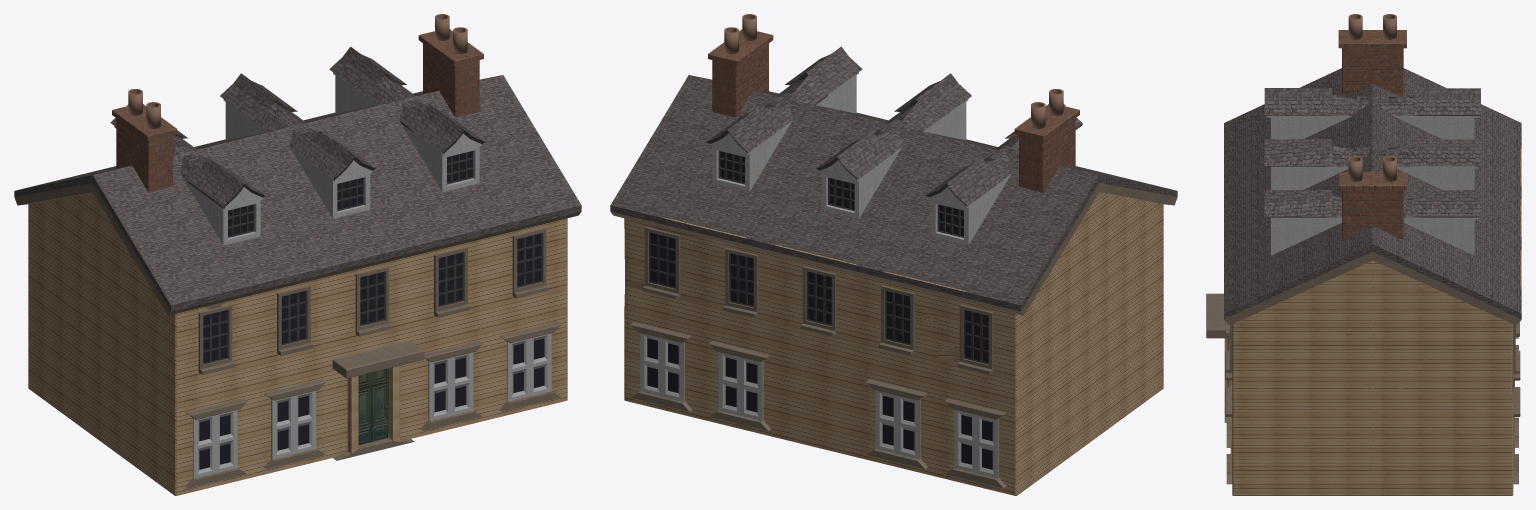
File: town_building_1.glb
The picture shows the model from 3 angles, left to right: view 1: azimuth 30°, elevation 25°; view 2: azimuth 150°, elevation 25°; view 3: azimuth 270°, elevation 25°; orthographic projection. The views are drawn at different scales.
Parts seen in each view (by area): view 1: Town Building 1_0; view 2: Town Building 1_0; view 3: Town Building 1_0.
Part boxes in pixels (left/top/right/bottom): Town Building 1_0: left=14, top=14, right=581, bottom=495; Town Building 1_0: left=610, top=14, right=1177, bottom=495; Town Building 1_0: left=1206, top=14, right=1521, bottom=495.
Size of the model in its own units: 6.05 by 4.69 by 4.23.
9 materials, 8 textured.
